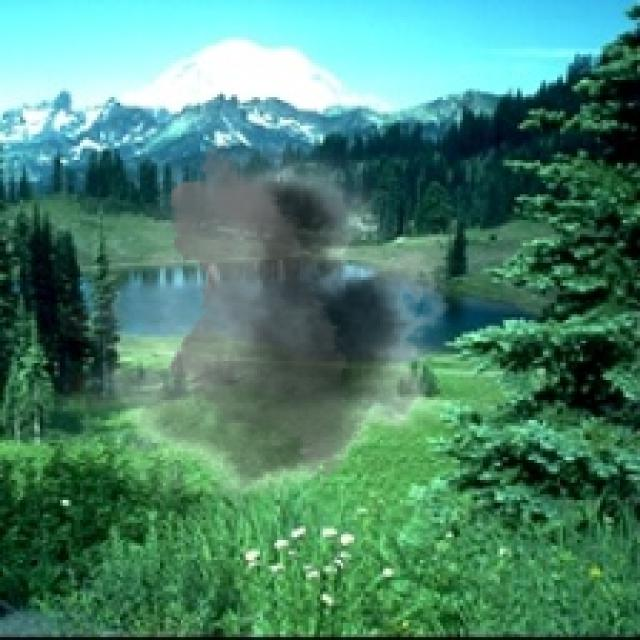smoke: (60, 143, 471, 520)
